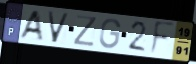2: (126, 20, 150, 55)
A: (17, 9, 45, 41)
F: (148, 19, 176, 57)
G: (98, 17, 122, 51)
V: (45, 10, 71, 45)
Z: (72, 14, 99, 48)
